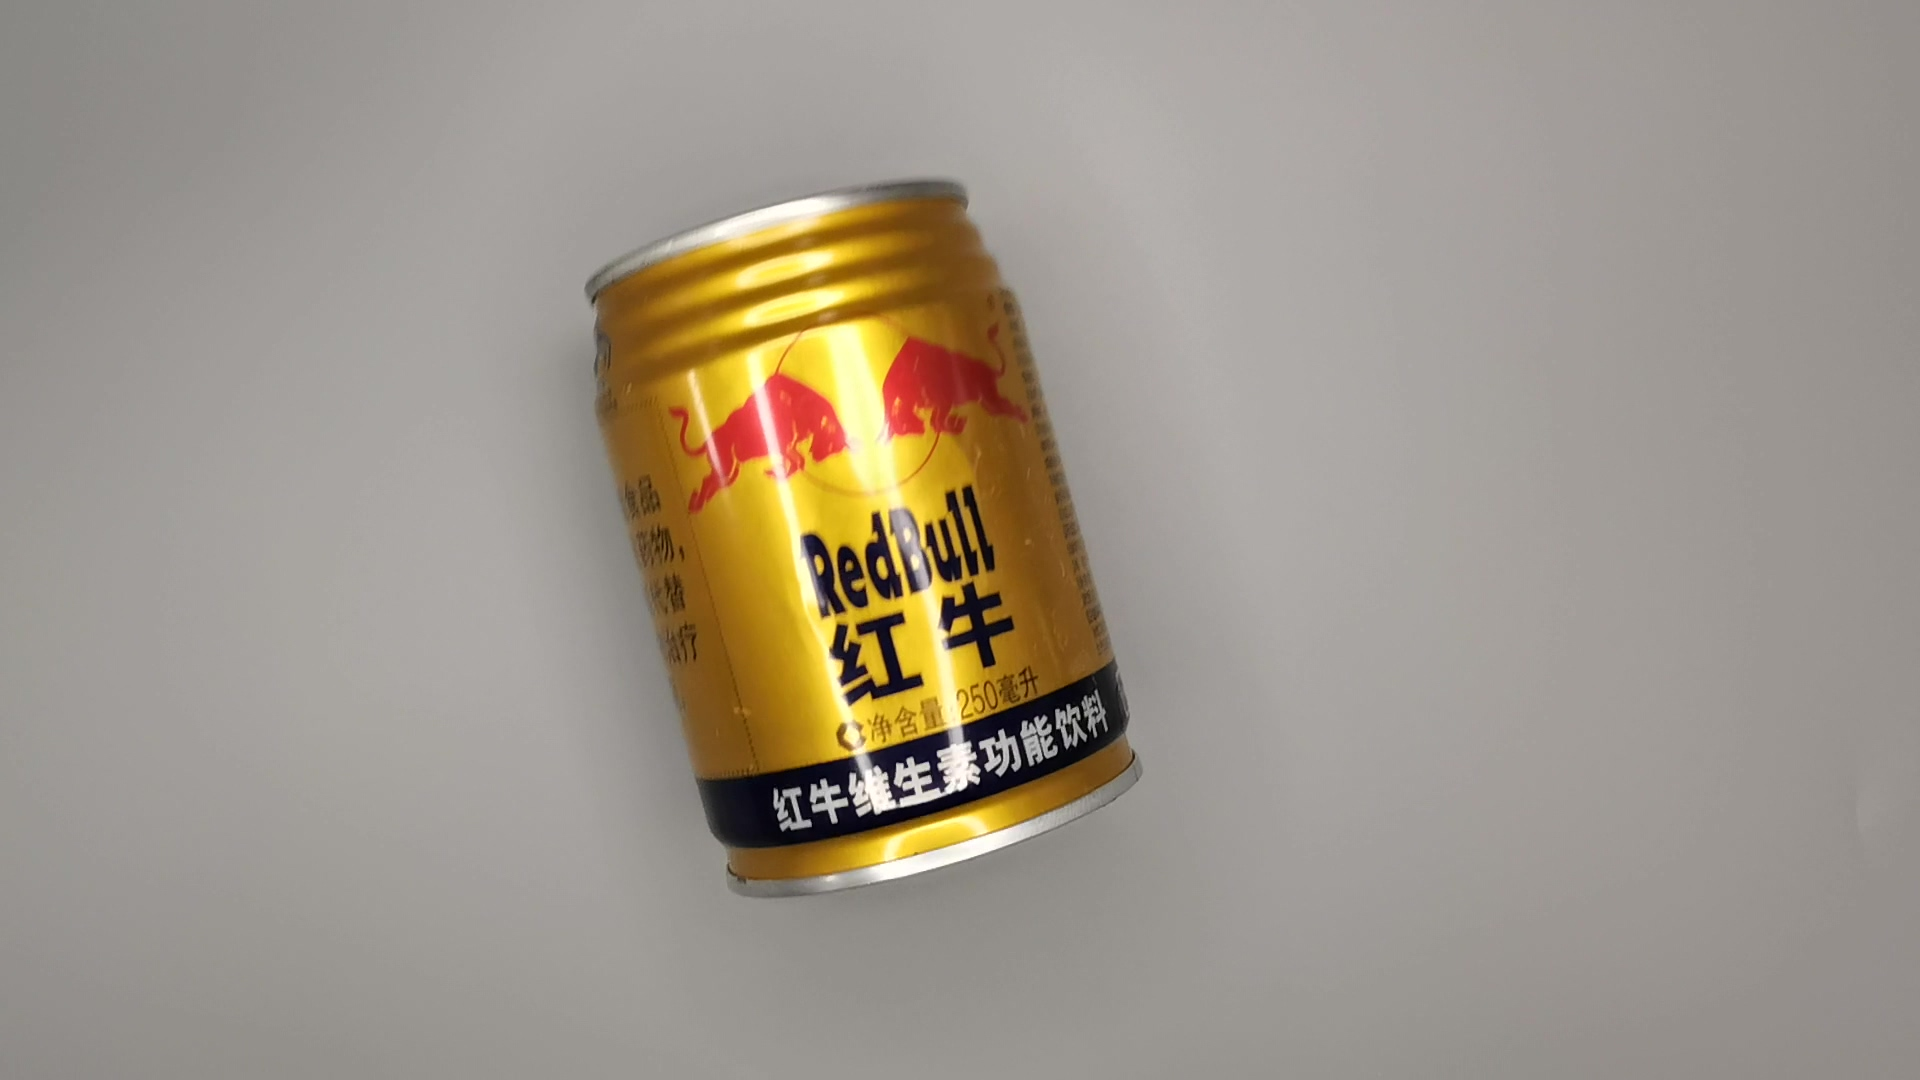can: (592, 164, 1151, 923)
